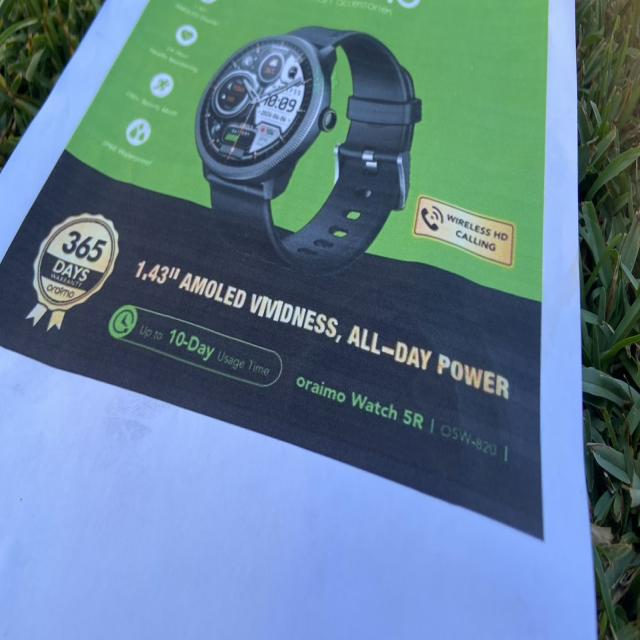Oraimo Watch 5R OSW-820: (295, 371, 512, 471)
